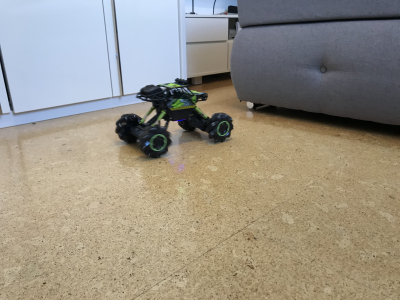remote control car: (109, 74, 236, 161)
